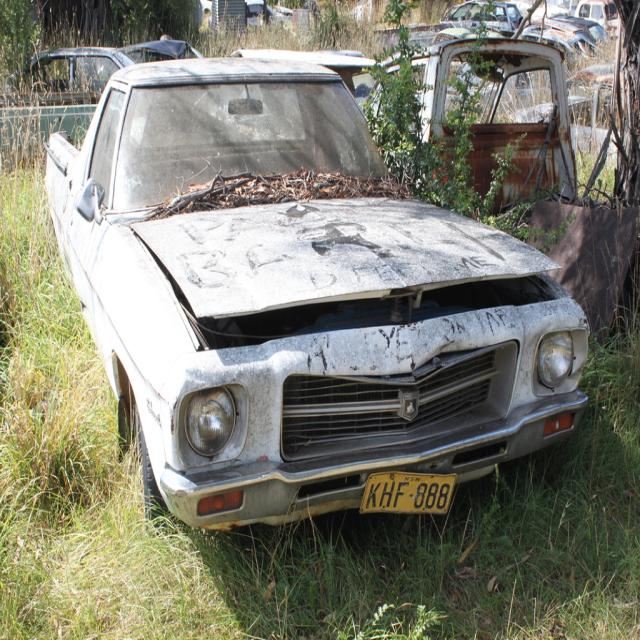Passenger Car: (46, 57, 590, 569)
